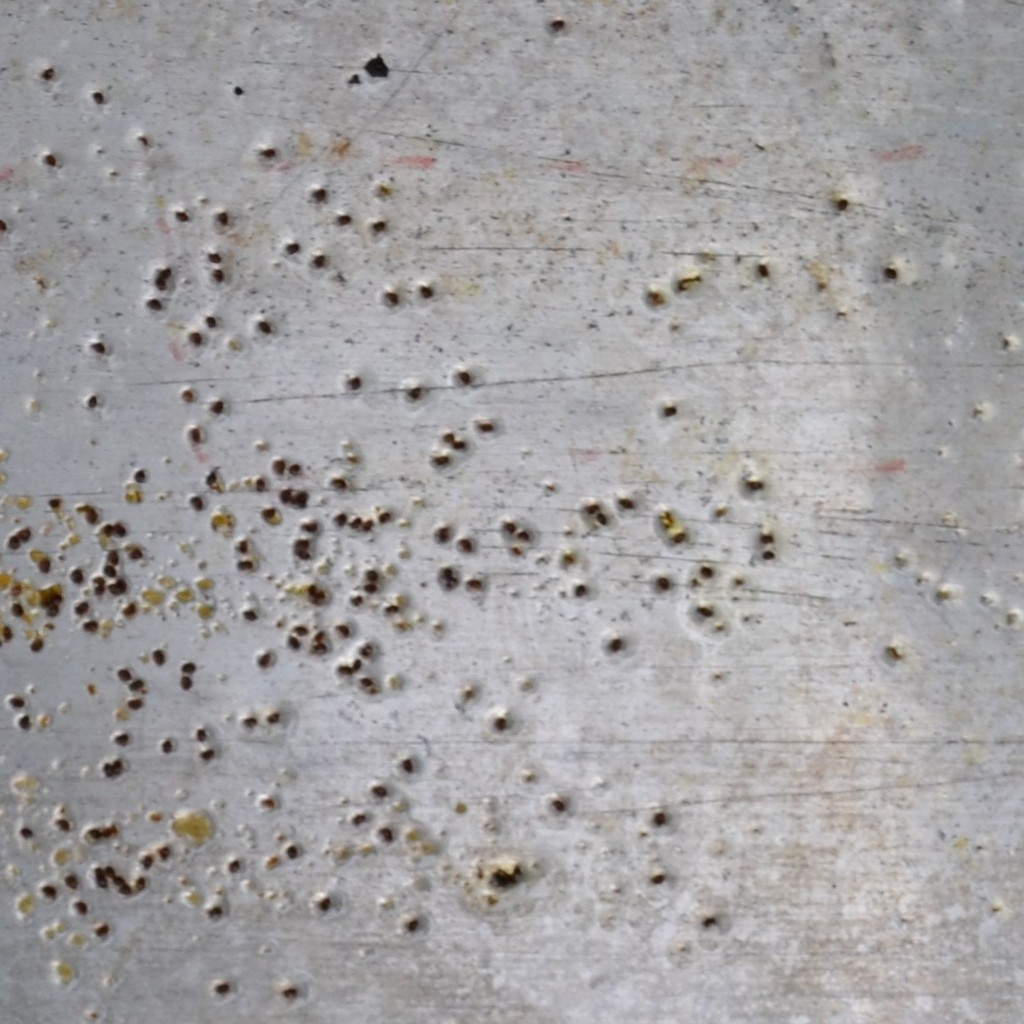varroa: (283, 240, 300, 262), (382, 599, 401, 618), (236, 556, 255, 575), (62, 871, 81, 890), (455, 367, 473, 387), (16, 711, 33, 732), (145, 296, 164, 314), (198, 745, 216, 764), (92, 921, 110, 940), (293, 488, 309, 509), (178, 674, 194, 695), (84, 391, 99, 413), (882, 263, 899, 282), (550, 796, 567, 815), (68, 567, 85, 586), (151, 646, 166, 667), (346, 375, 363, 393), (89, 340, 107, 357), (212, 982, 230, 999), (55, 815, 73, 832), (335, 212, 354, 228), (378, 826, 394, 845), (404, 916, 420, 935), (287, 635, 303, 654), (242, 714, 257, 734), (650, 870, 667, 887), (418, 282, 435, 299), (351, 811, 368, 828), (82, 619, 99, 636), (73, 600, 90, 617), (401, 757, 417, 775), (128, 677, 144, 695), (475, 421, 497, 434), (383, 288, 398, 307), (312, 186, 327, 205), (187, 328, 202, 347), (370, 784, 389, 799), (258, 650, 273, 669), (6, 531, 21, 550), (70, 900, 89, 915), (29, 637, 44, 656), (317, 896, 331, 916), (745, 478, 766, 491), (258, 146, 279, 159), (329, 477, 350, 490), (834, 196, 850, 213), (618, 495, 635, 511), (593, 509, 609, 526), (407, 385, 423, 402), (42, 153, 59, 169), (215, 209, 231, 226), (257, 319, 273, 336), (283, 844, 299, 861), (100, 524, 116, 541), (122, 601, 139, 617), (696, 604, 714, 619), (90, 88, 105, 106), (332, 511, 347, 529), (335, 622, 350, 640), (128, 546, 146, 561), (101, 563, 119, 578), (10, 601, 25, 619), (189, 495, 203, 514), (310, 641, 329, 655), (281, 985, 300, 999), (157, 843, 171, 862), (37, 557, 51, 576), (241, 608, 261, 621), (663, 403, 679, 419), (371, 218, 387, 234), (207, 250, 223, 266), (174, 208, 190, 224), (156, 265, 172, 281), (210, 399, 226, 415), (86, 826, 102, 842), (19, 826, 35, 842), (548, 18, 565, 33), (759, 529, 774, 546), (700, 916, 717, 931), (466, 578, 483, 593), (377, 508, 392, 525), (40, 65, 55, 82), (210, 266, 225, 283), (204, 313, 219, 330), (260, 506, 277, 521), (203, 469, 218, 486), (206, 905, 223, 920), (41, 884, 58, 899), (671, 529, 685, 547), (437, 525, 451, 543), (160, 738, 174, 756), (7, 695, 25, 709), (655, 575, 670, 591), (451, 438, 466, 454), (347, 514, 362, 530), (17, 526, 33, 541), (45, 603, 60, 619), (761, 549, 778, 563), (503, 521, 517, 538), (459, 536, 473, 553), (441, 566, 455, 583), (364, 567, 381, 581), (301, 520, 318, 534), (293, 547, 310, 561), (350, 593, 364, 610), (265, 710, 282, 724), (293, 623, 310, 637), (113, 731, 130, 745), (141, 854, 155, 871), (1, 624, 15, 641), (609, 637, 622, 655), (113, 521, 126, 539), (85, 507, 98, 525), (362, 517, 374, 536), (699, 565, 714, 580), (652, 811, 667, 826), (312, 254, 327, 269), (359, 642, 375, 656), (226, 859, 240, 875), (105, 864, 119, 880), (433, 455, 450, 468), (115, 669, 132, 682), (109, 582, 126, 595), (273, 457, 285, 475), (494, 716, 508, 731), (279, 488, 293, 503), (359, 675, 374, 689), (306, 582, 316, 603), (313, 630, 327, 645), (93, 875, 108, 889), (179, 661, 198, 672), (574, 583, 587, 599), (154, 277, 167, 293), (194, 726, 207, 742), (117, 883, 133, 896), (106, 549, 119, 565), (48, 589, 61, 605), (189, 427, 201, 444), (292, 537, 309, 549), (125, 698, 143, 709), (102, 760, 113, 778), (516, 529, 531, 542), (111, 760, 124, 775), (134, 877, 147, 892), (47, 498, 62, 511), (363, 582, 379, 594), (90, 574, 107, 585), (232, 82, 245, 96), (91, 584, 106, 596), (335, 664, 351, 675), (313, 590, 326, 603), (288, 462, 302, 474), (350, 658, 362, 672), (93, 866, 107, 878), (587, 503, 602, 514), (134, 469, 145, 484), (113, 875, 127, 886), (442, 433, 454, 444)
